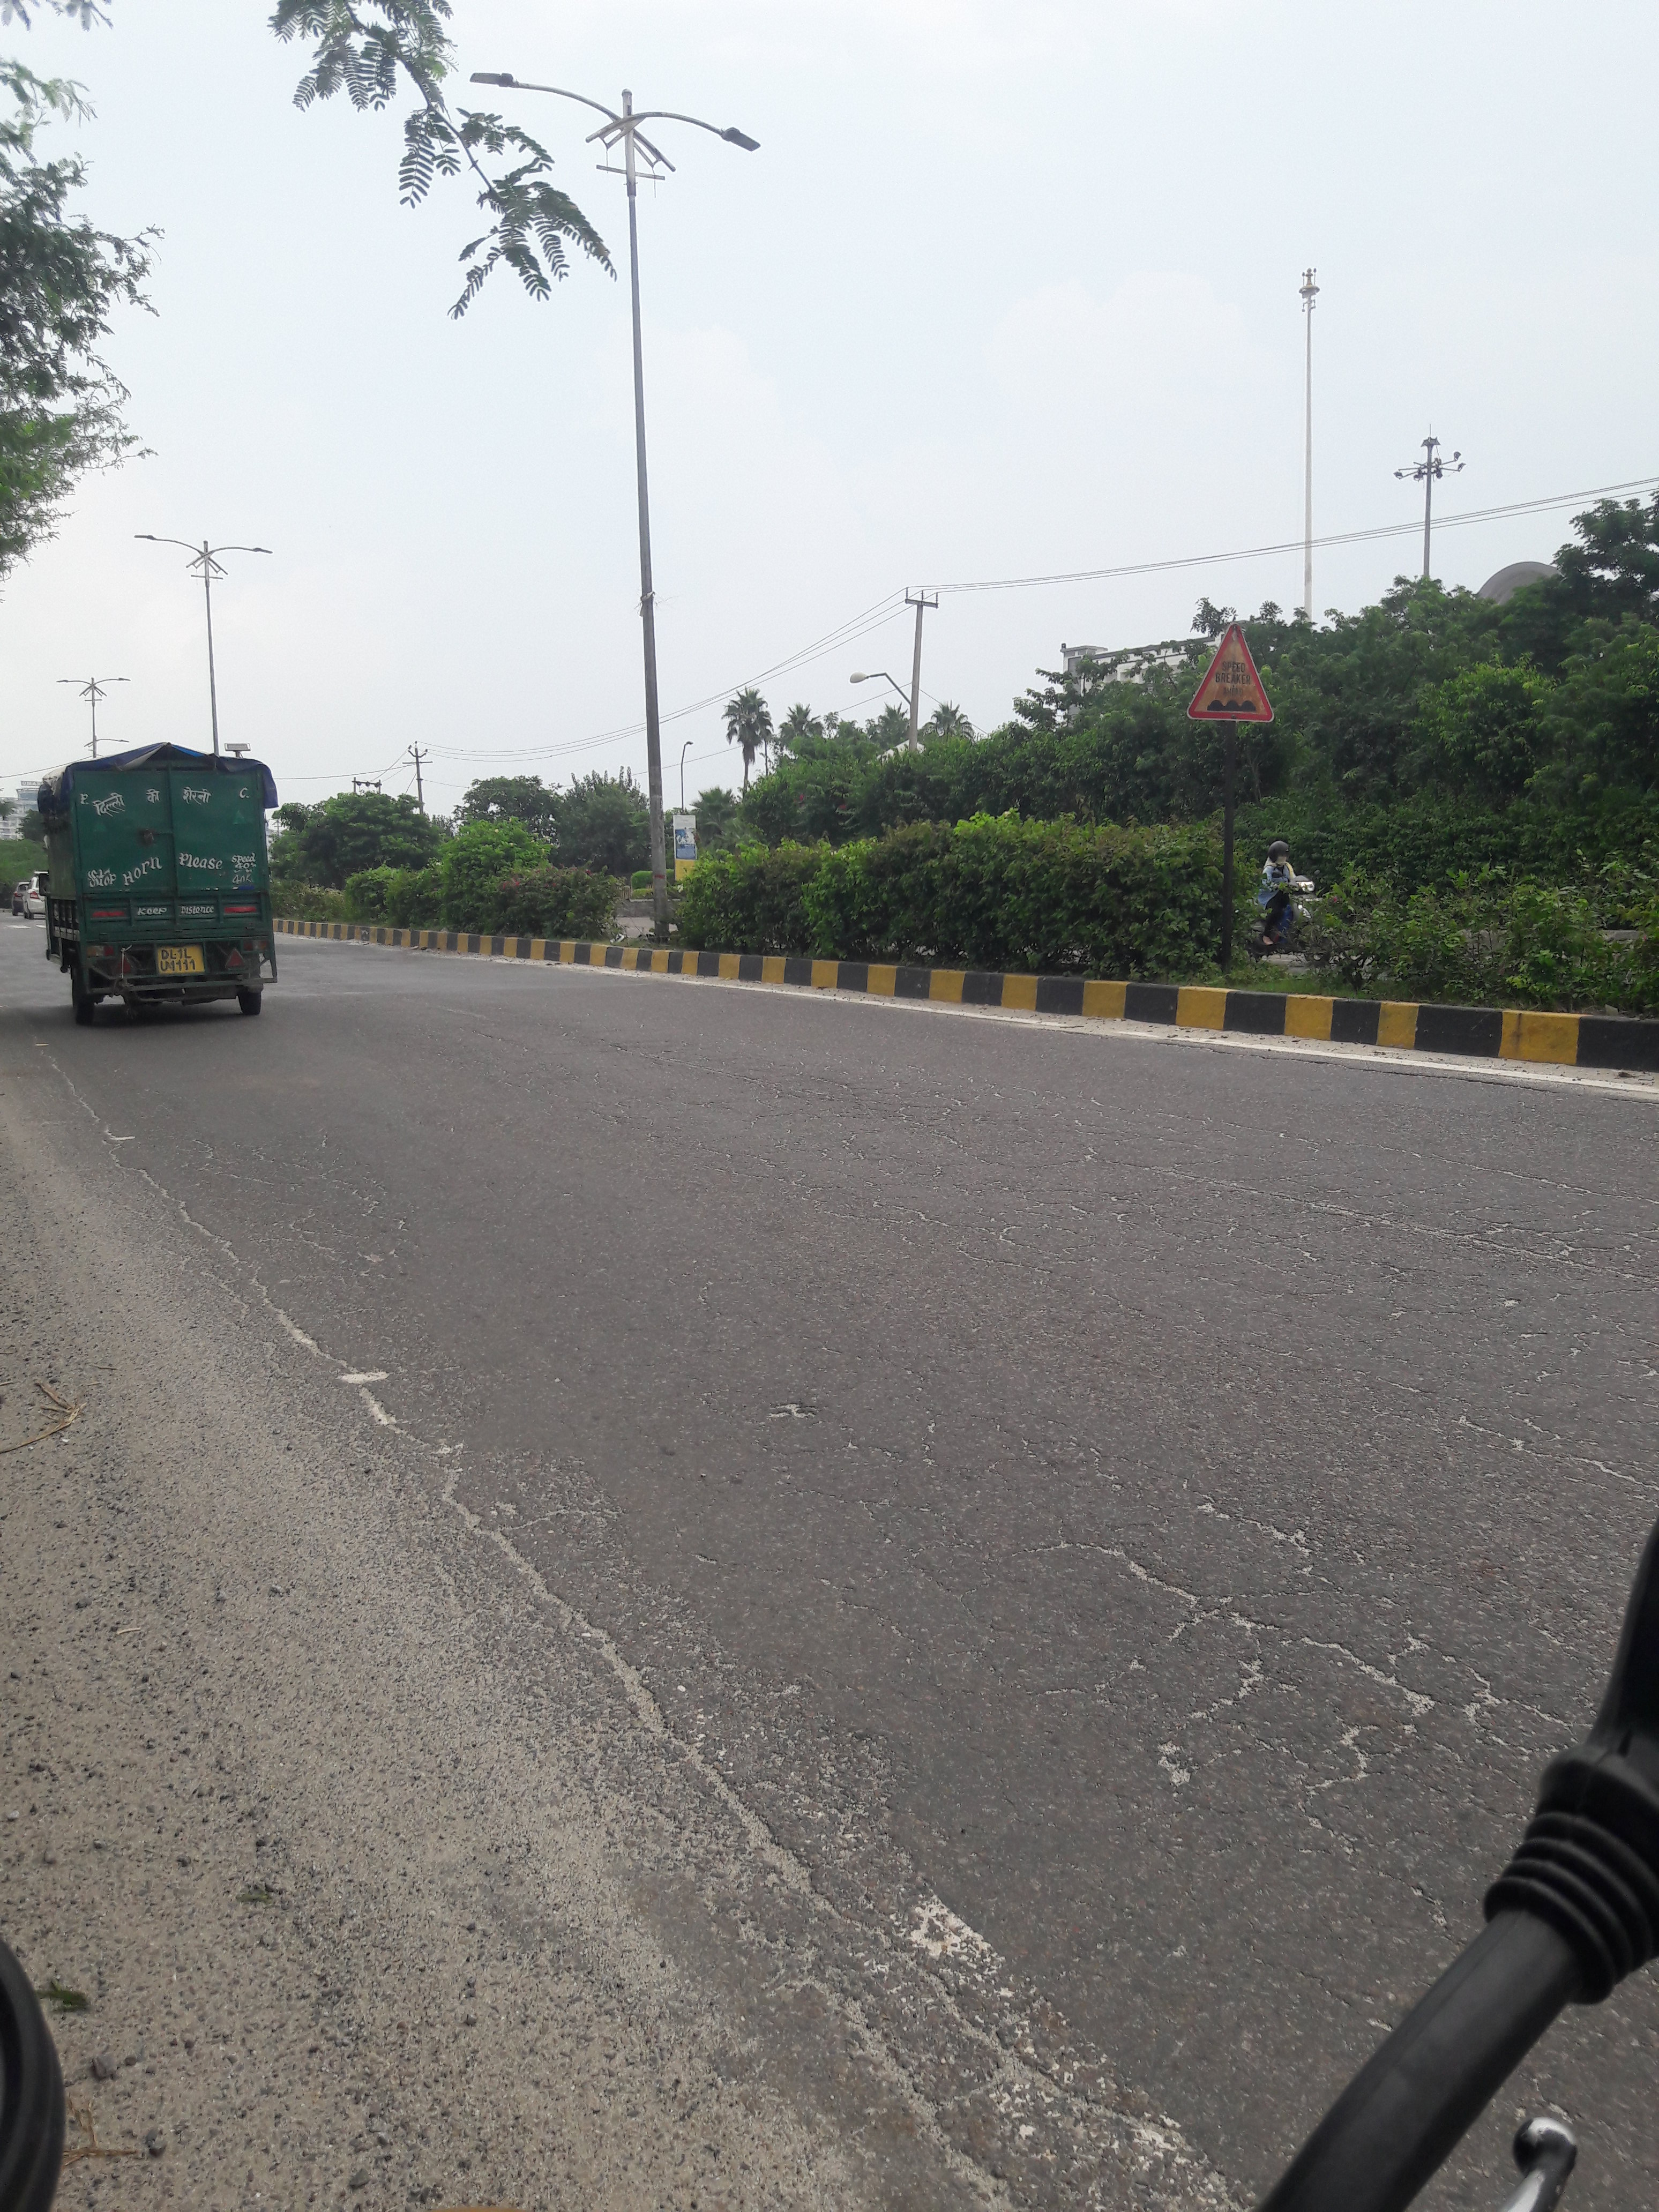traffic_sign: (1190, 624, 1276, 726)
